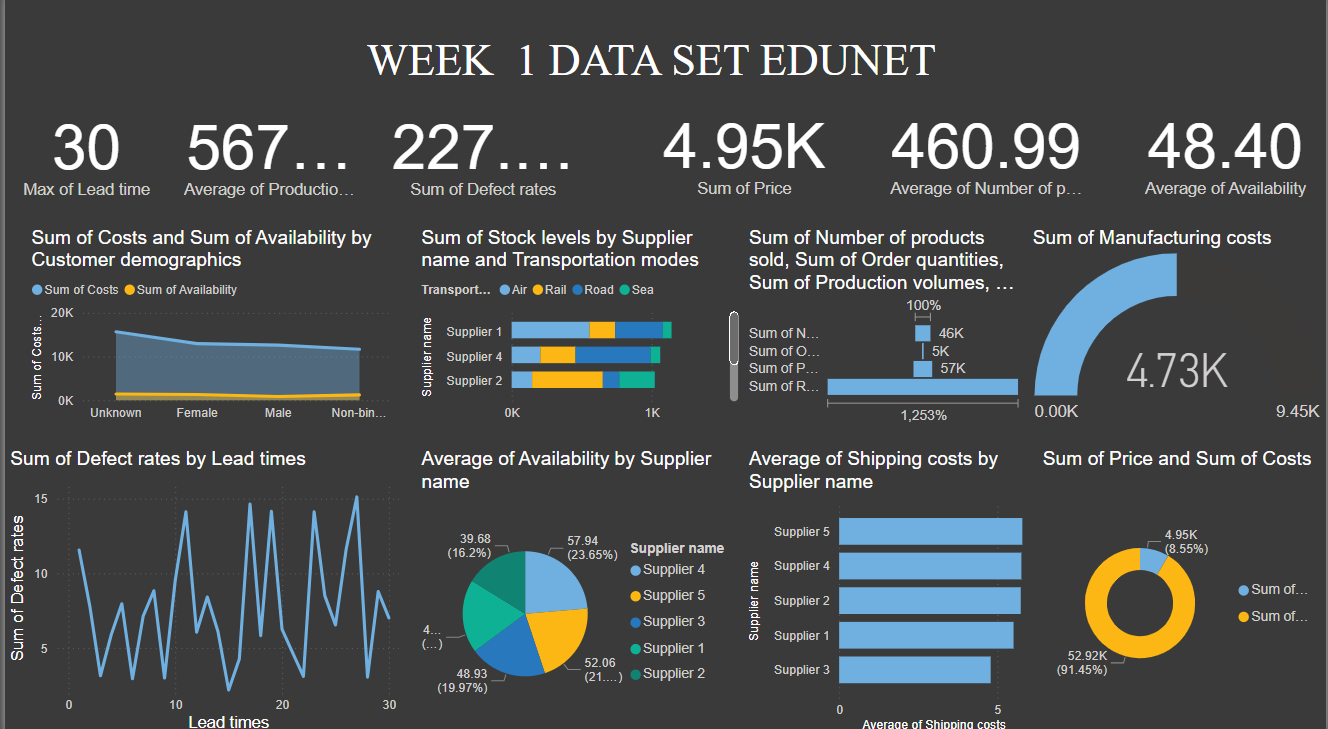

Layout of this report page (visuals, bound fields, positions):
{"tool":"powerbi","page":{"name":"Page 1","canvas":[1280,720],"ordinal":0},"visuals":[{"type":"donutChart","fields":{"Y":["Sum(pb.Price)","Sum(pb.Costs)"]},"box":[1000.3,440.5,279.9,279.9],"z":0},{"type":"card","fields":{"Values":["Max(pb.Lead time)"]},"box":[0,89.6,158.3,127.6],"z":1000},{"type":"clusteredBarChart","fields":{"Category":["pb.Supplier name"],"Y":["Avg(pb.Shipping costs)"]},"box":[714.9,440.5,285.4,279.9],"z":2000},{"type":"pieChart","fields":{"Category":["pb.Supplier name"],"Y":["Avg(pb.Availability)"]},"box":[397.9,440.5,307.4,279.9],"z":3000},{"type":"card","fields":{"Values":["Avg(pb.Production volumes)"]},"box":[168.8,89.2,175.6,127.6],"z":4000},{"type":"lineChart","fields":{"Category":["pb.Lead times"],"Y":["Sum(pb.Defect rates)"]},"box":[0,440.5,387,279.9],"z":5000},{"type":"card","fields":{"Values":["Sum(pb.Defect rates)"]},"box":[369.1,89.2,188,127.6],"z":6000},{"type":"gauge","fields":{"Y":["Sum(pb.Manufacturing costs)"]},"box":[990.7,226.4,289.5,196.2],"z":7000},{"type":"funnel","fields":{"Y":["Sum(pb.Number of products sold)","Sum(pb.Order quantities)","Sum(pb.Production volumes)","Sum(pb.Revenue generated)"]},"box":[714.9,226.4,275.8,196.2],"z":8000},{"type":"barChart","fields":{"Y":["Sum(pb.Stock levels)"],"Category":["pb.Supplier name"],"Series":["pb.Transportation modes"]},"box":[397.9,226.4,317,196.2],"z":9000},{"type":"card","fields":{"Values":["Sum(pb.Price)"]},"box":[622.1,88.3,187.7,127.6],"z":10000},{"type":"areaChart","fields":{"Category":["pb.Customer demographics"],"Y":["Sum(pb.Costs)","Sum(pb.Availability)"]},"box":[20.6,226.4,366.4,196.2],"z":11000},{"type":"card","fields":{"Values":["Avg(pb.Number of products sold)"]},"box":[852.8,88.3,196.3,127.6],"z":12000},{"type":"card","fields":{"Values":["Avg(pb.Availability)"]},"box":[1084.7,88.3,195.1,127.6],"z":13000},{"type":"textbox","box":[344.8,35.6,797.6,62.6],"z":13001}]}

Visuals, with their boxes in screenshot pixels (x1, y1, x2, y2), scaled from the page's 1280x720 canvas onto the 1328x729 screenshot:
donutChart - Sum(pb.Price) x Sum(pb.Costs): <bbox>1038, 446, 1327, 728</bbox>
card - Max(pb.Lead time): <bbox>0, 91, 164, 220</bbox>
clusteredBarChart - pb.Supplier name x Avg(pb.Shipping costs): <bbox>742, 446, 1038, 728</bbox>
pieChart - pb.Supplier name x Avg(pb.Availability): <bbox>413, 446, 732, 728</bbox>
card - Avg(pb.Production volumes): <bbox>175, 90, 357, 220</bbox>
lineChart - pb.Lead times x Sum(pb.Defect rates): <bbox>0, 446, 402, 728</bbox>
card - Sum(pb.Defect rates): <bbox>383, 90, 578, 220</bbox>
gauge - Sum(pb.Manufacturing costs): <bbox>1028, 229, 1327, 428</bbox>
funnel - Sum(pb.Number of products sold) x Sum(pb.Order quantities): <bbox>742, 229, 1028, 428</bbox>
barChart - Sum(pb.Stock levels) x pb.Supplier name: <bbox>413, 229, 742, 428</bbox>
card - Sum(pb.Price): <bbox>645, 89, 840, 219</bbox>
areaChart - pb.Customer demographics x Sum(pb.Costs): <bbox>21, 229, 402, 428</bbox>
card - Avg(pb.Number of products sold): <bbox>885, 89, 1088, 219</bbox>
card - Avg(pb.Availability): <bbox>1125, 89, 1327, 219</bbox>
textbox: <bbox>358, 36, 1185, 99</bbox>
